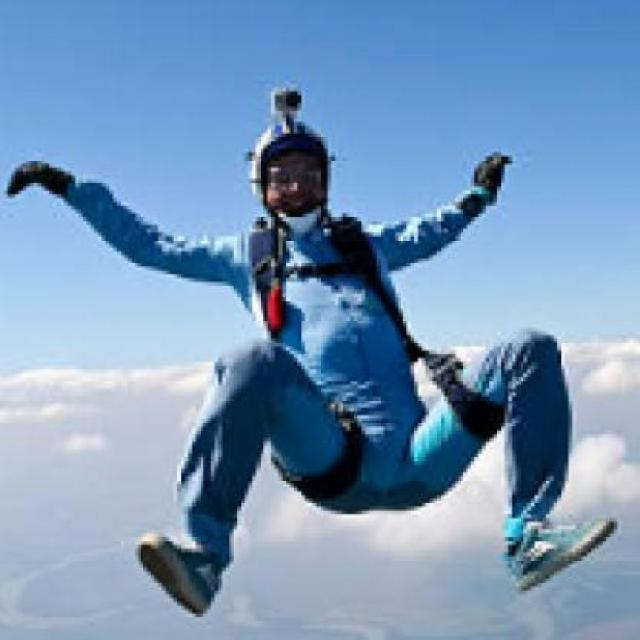fall: (6, 81, 619, 613)
